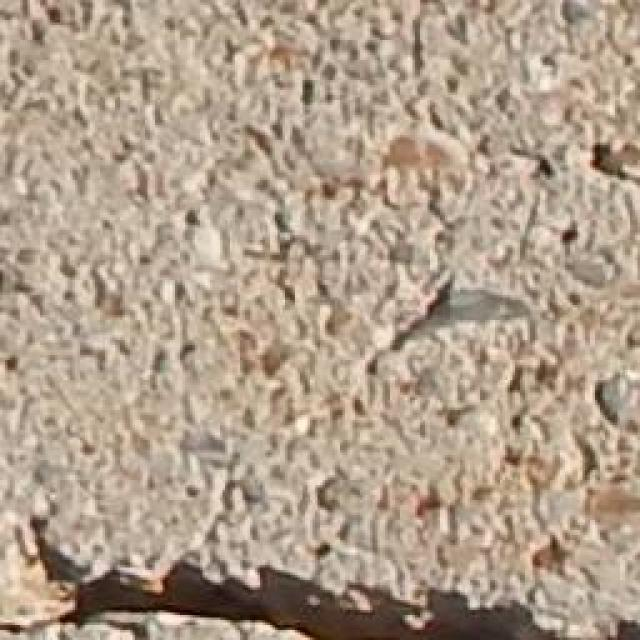concrete-crack: (2, 504, 618, 640)
